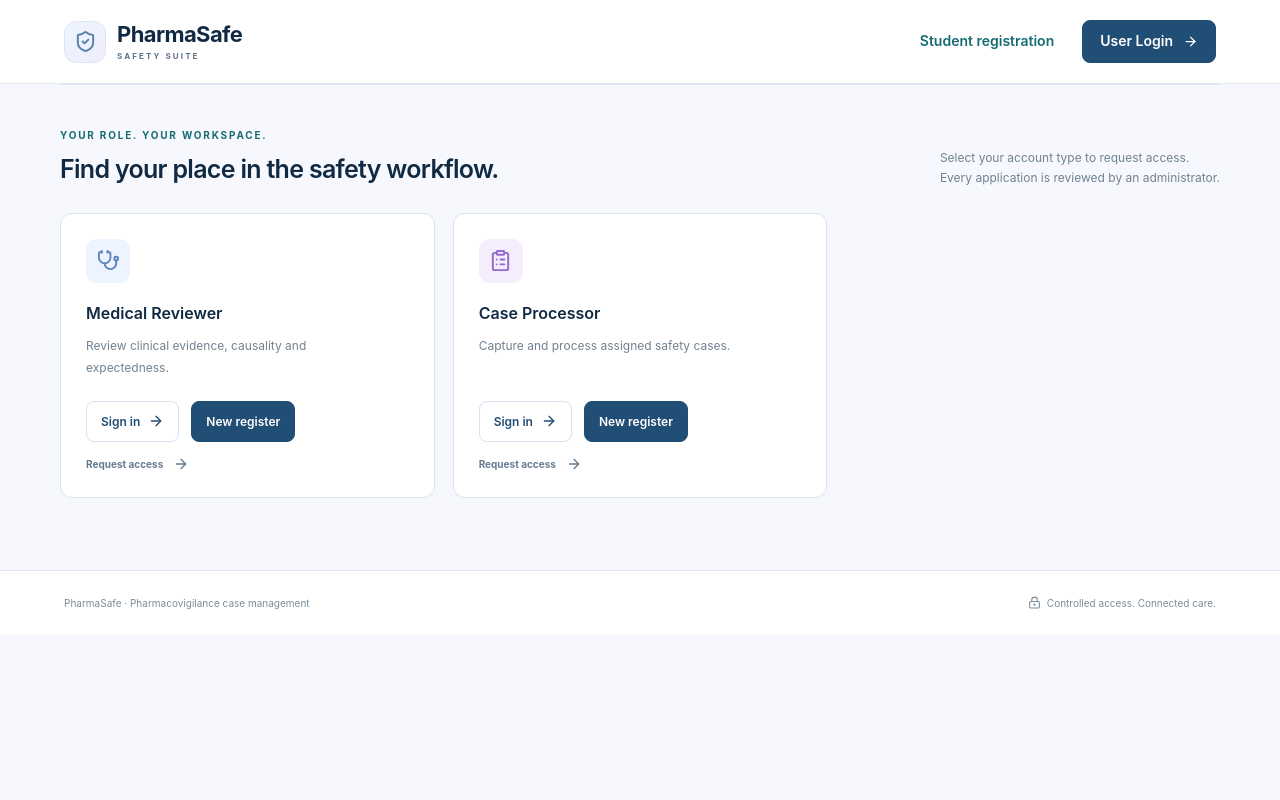
Test: Public user access › binds the selected role to a server token, shows relevant fields and submits a real request
Later steps or results of the test are not shown.
Step 1. Click the button with aria-label "Request access as Medical Reviewer" → (138, 464), box left=86, top=456, right=189, bottom=472
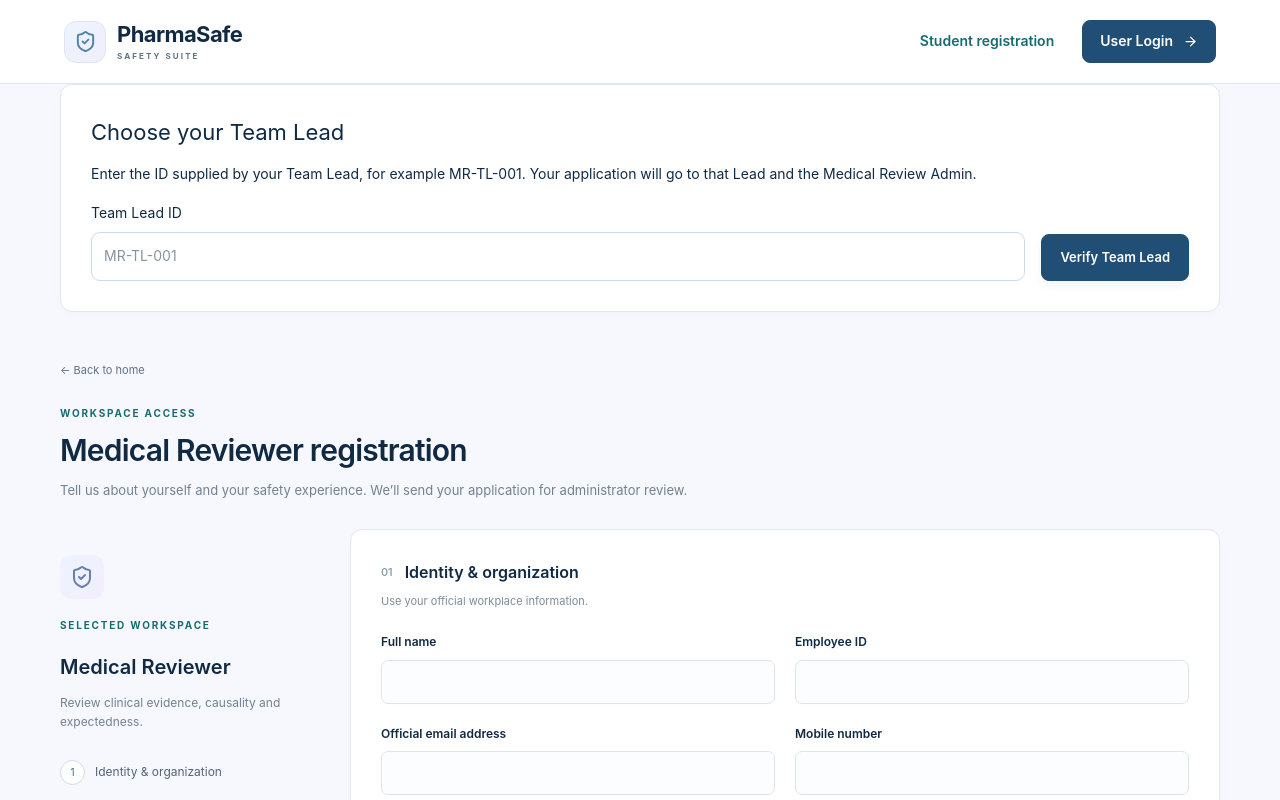
Expected: the heading "Medical Reviewer registration" is shown, left=60, top=432, right=467, bottom=468
